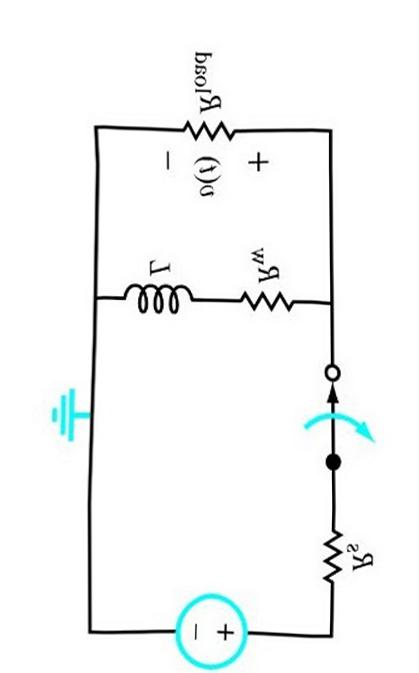Battery: (152, 581, 261, 672)
